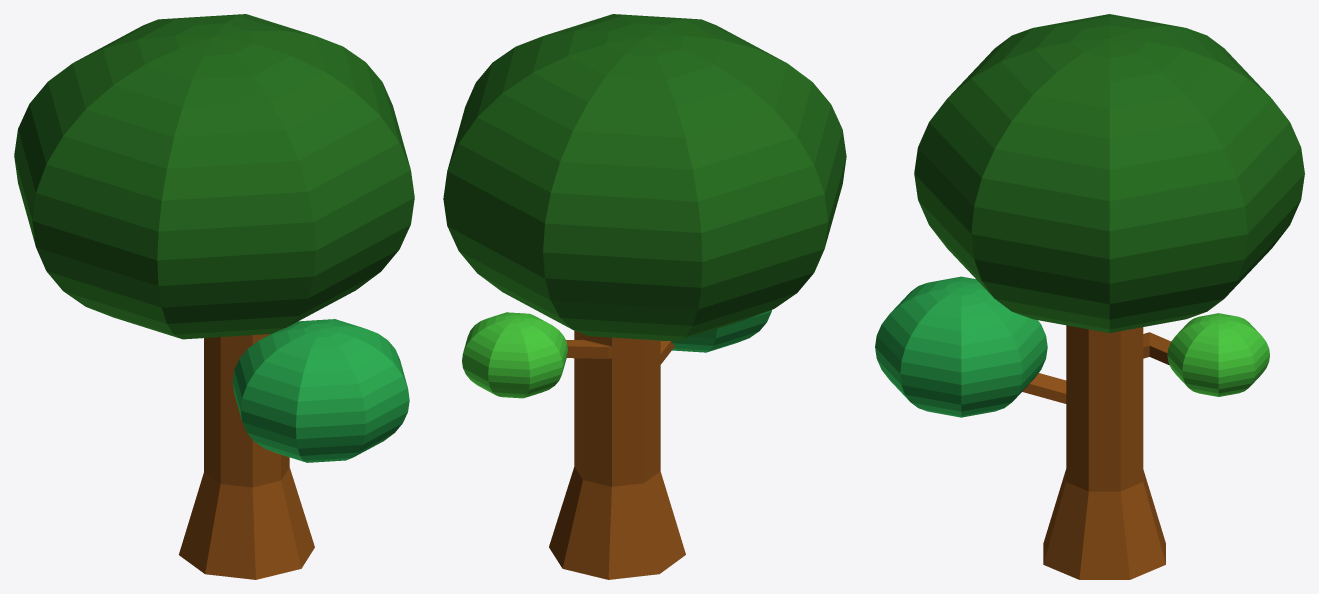
File: arbol2.fbx
3 views of the same model, side by side, from view 1: azimuth 30°, elevation 25°; view 2: azimuth 150°, elevation 25°; view 3: azimuth 270°, elevation 25° (orthographic). The views are drawn at different scales.
Parts seen in each view (by area): view 1: Sphere.002, Sphere, Cylinder; view 2: Sphere.002, Cylinder, Sphere.001, Sphere; view 3: Sphere.002, Cylinder, Sphere, Sphere.001.
Boxes of the visible parts, x1,y1,x2,y2 form: Sphere.002: (14,14,414,339); Sphere: (232,319,409,462); Cylinder: (179,334,314,579); Sphere.002: (443,14,846,341); Cylinder: (549,330,685,579); Sphere.001: (462,312,567,398); Sphere: (661,310,771,352); Sphere.002: (914,14,1304,332); Cylinder: (1022,325,1170,579); Sphere: (875,276,1047,417); Sphere.001: (1167,313,1269,396).
Size of the model in its own units: 477 by 651 by 506.
